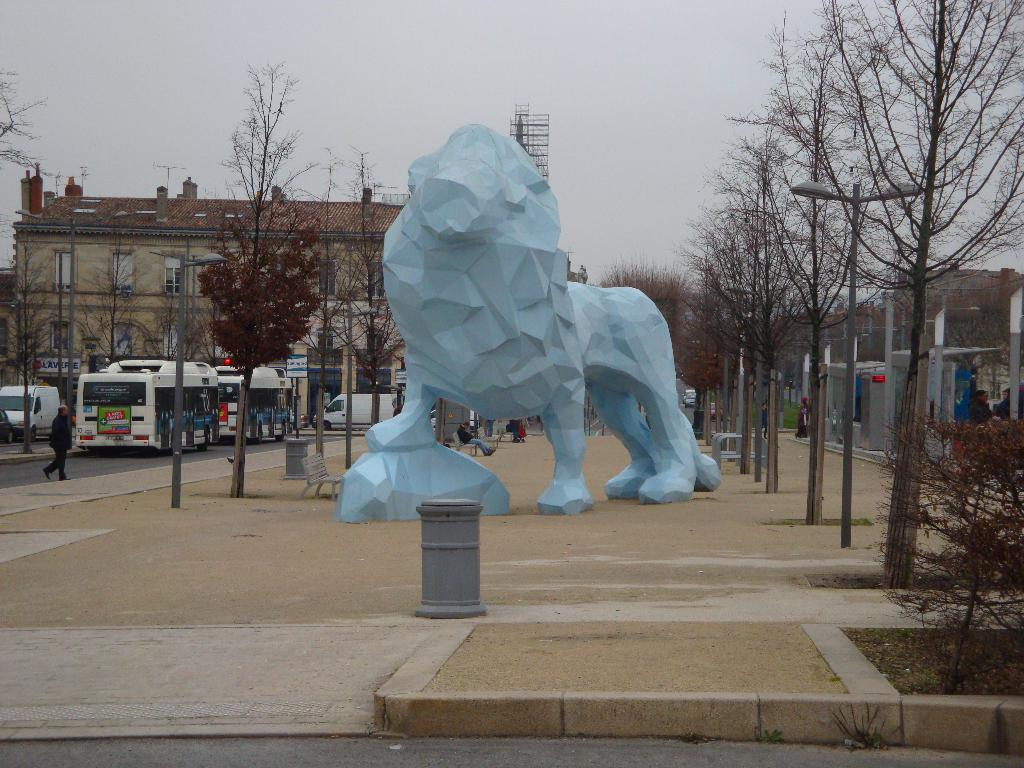Bus: (74, 355, 217, 457), (216, 362, 288, 441)
